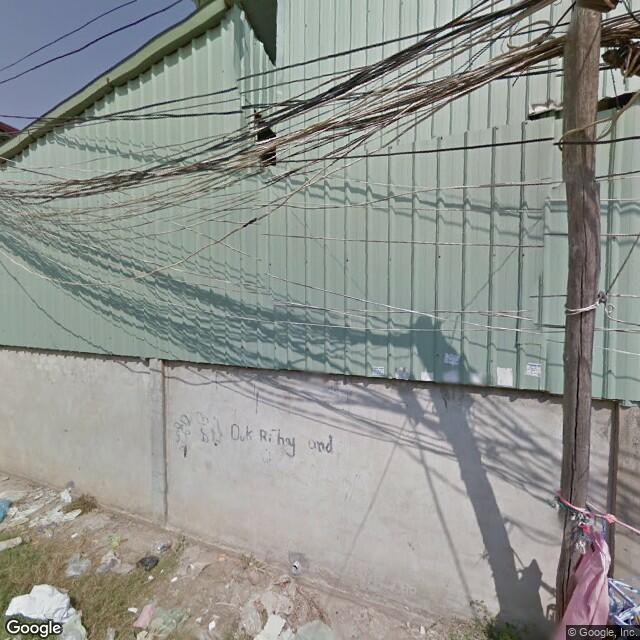litter: (8, 560, 109, 640), (6, 481, 84, 530), (122, 599, 147, 616), (144, 570, 159, 585)
